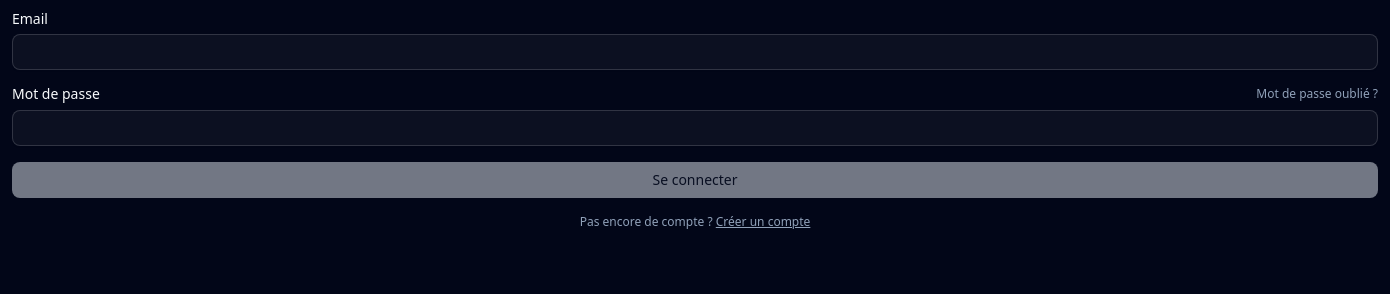
EmailPasswordForm › shows field-level errors when zod returns errors
Type "bad" into the field labelled "Email" at (695, 52), box [12,34,1378,70]
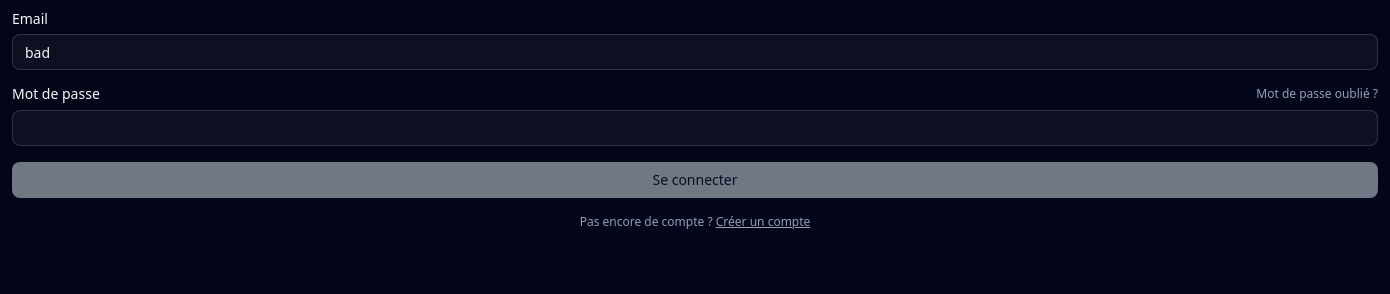
Type "short" into the password field labelled "Mot de passe" at (695, 128), box [12,110,1378,146]
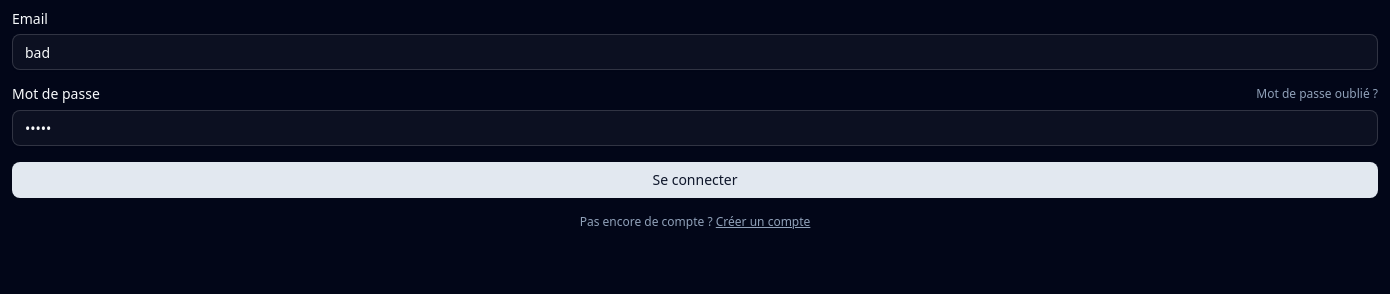
Submit the form labelled "Email"
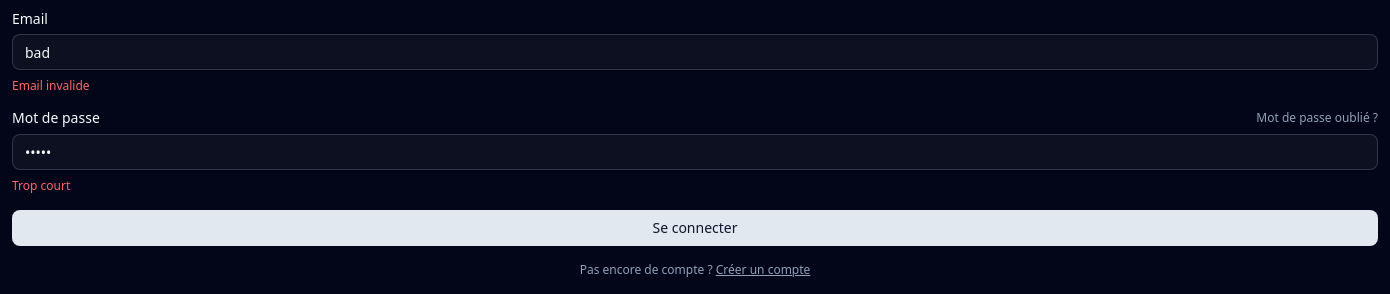
Expected: the text "Email invalide" is shown, [12,77,90,94]
Expected: the text "Trop court" is shown, [12,177,70,194]
